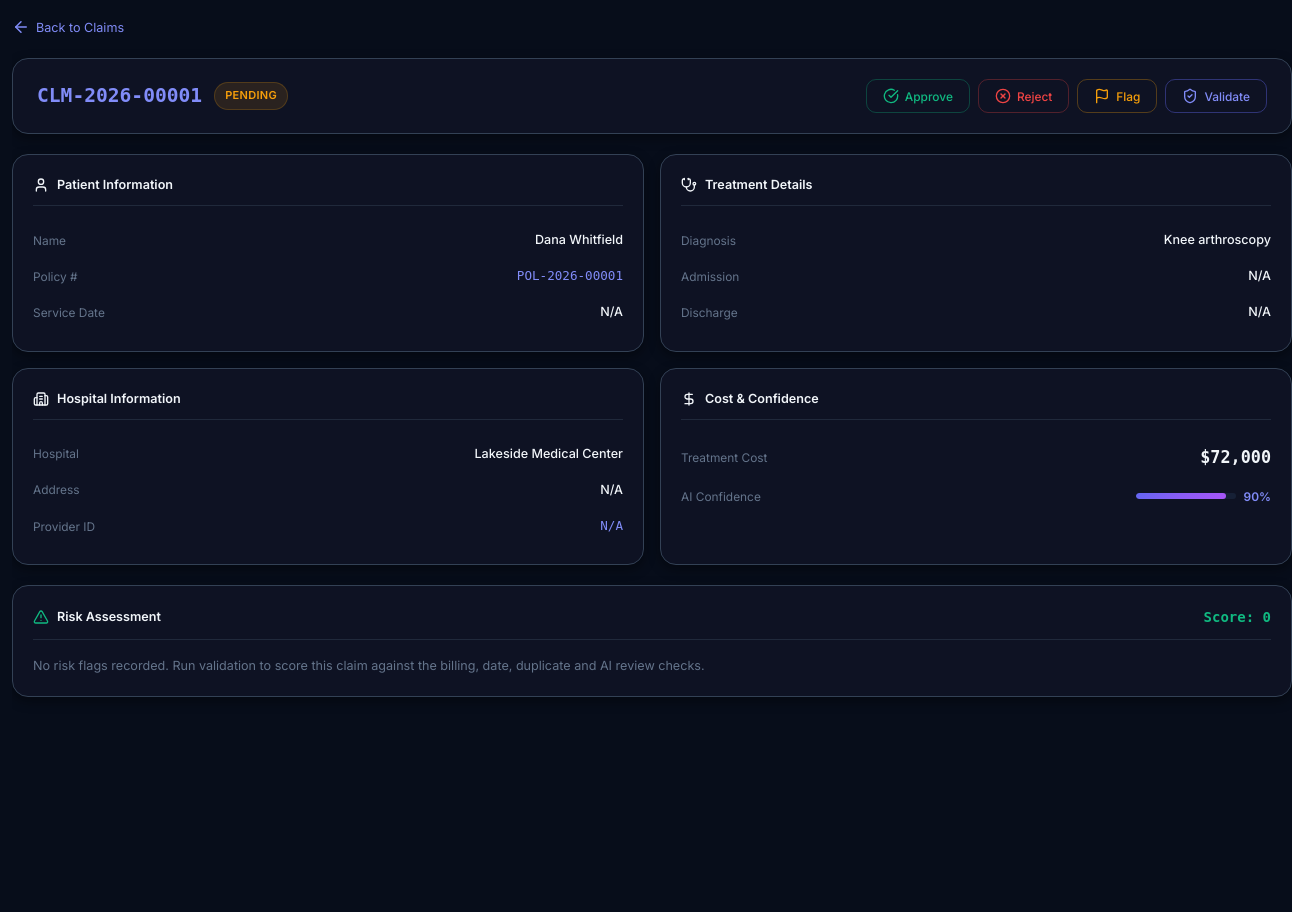
ClaimDetailPage › keeps the current status when an update is rejected
This screenshot has width=1292, height=912.
Click the button "Approve" at (918, 96), box [866,79,970,113]
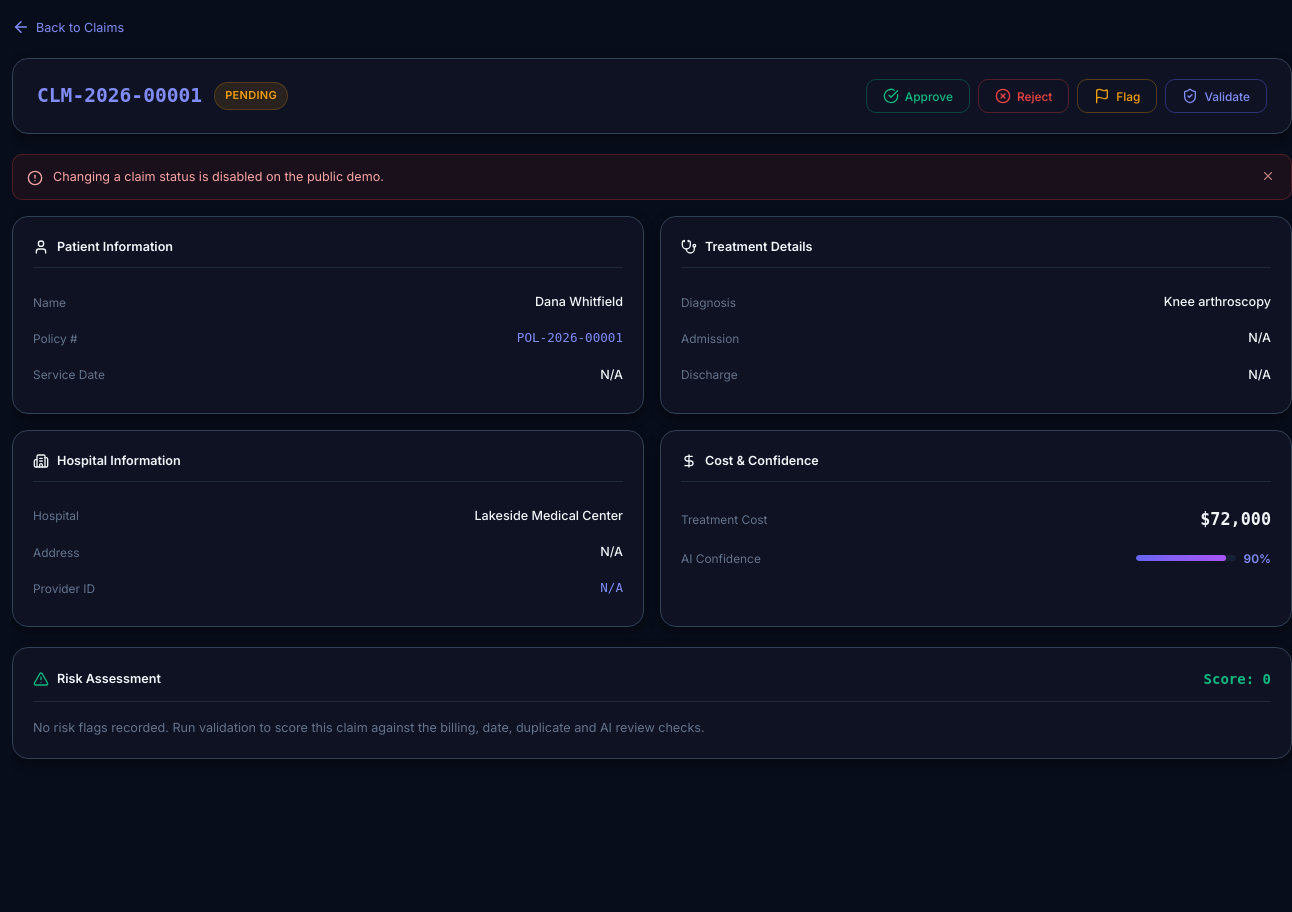
Expected: the text "pending" is shown, [214,82,288,110]
Now the message reads "Changing a claim status is disabled on the public demo.", box [53,169,384,184]
